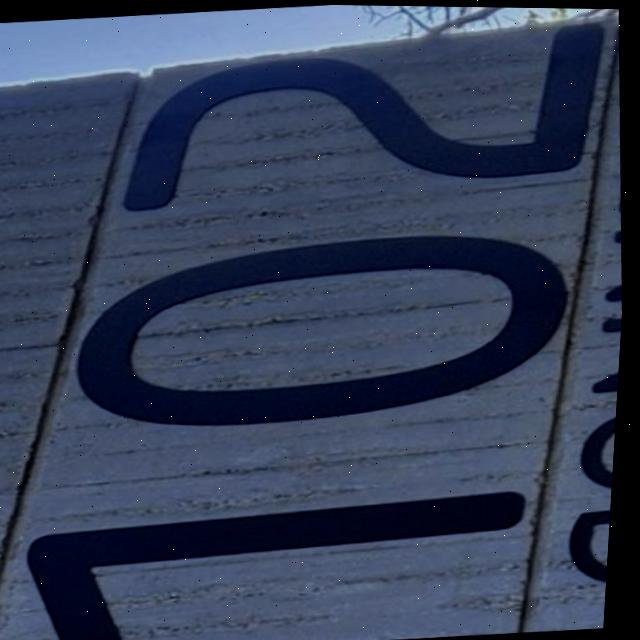character: (58, 214, 584, 446), (103, 6, 624, 222), (12, 476, 541, 640)
